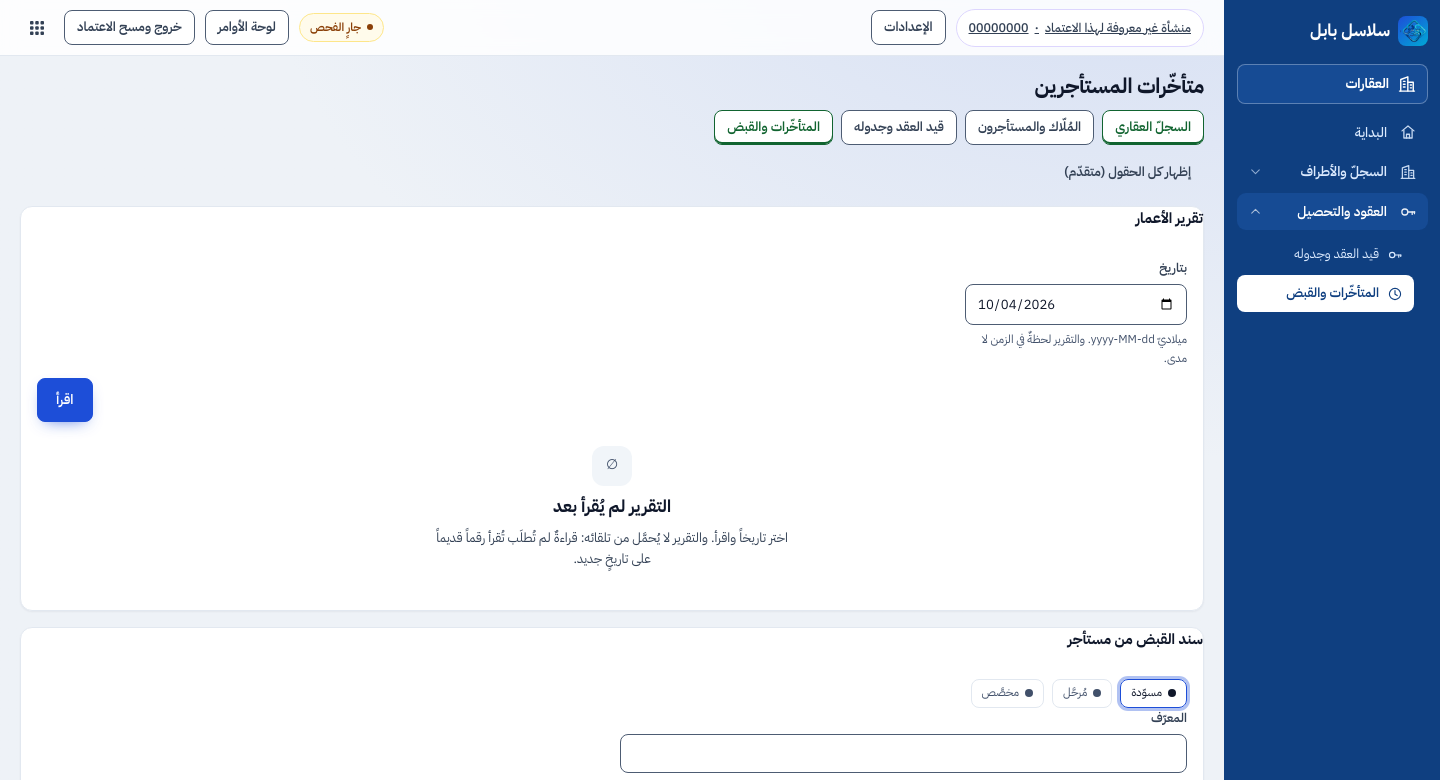
المال نصّ في الاتجاهين › المبلغ ينزل من السلك بلا فقدِ خانة، ويبقى أصله في السمة
This screenshot has width=1440, height=780.
Click the button with test id "re-arrears-load".
click(65, 400)  # box [37,378,92,422]
(page scrolled)
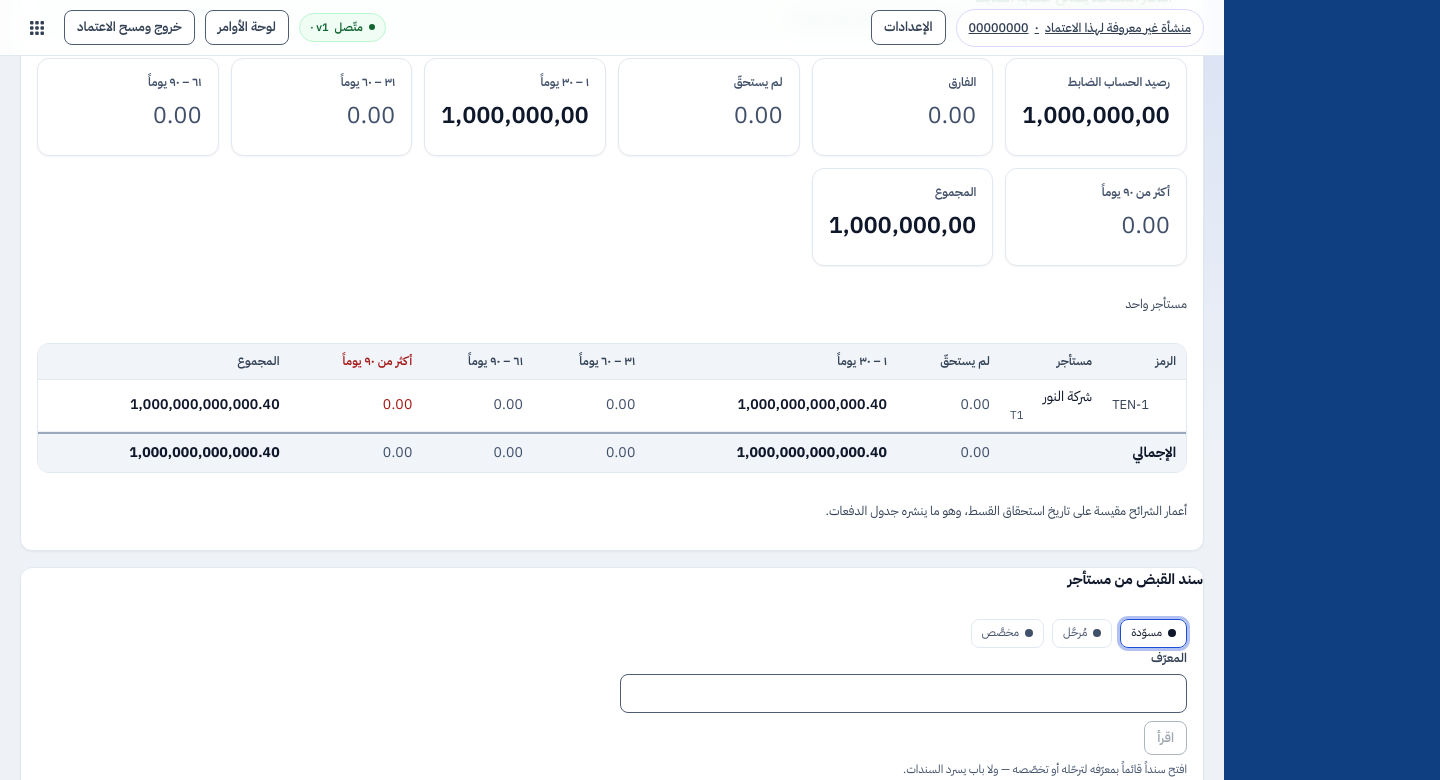
Result: the 5th text with class "amt" reads "1,000,000,000,000.40" at [737,394,887,415]
